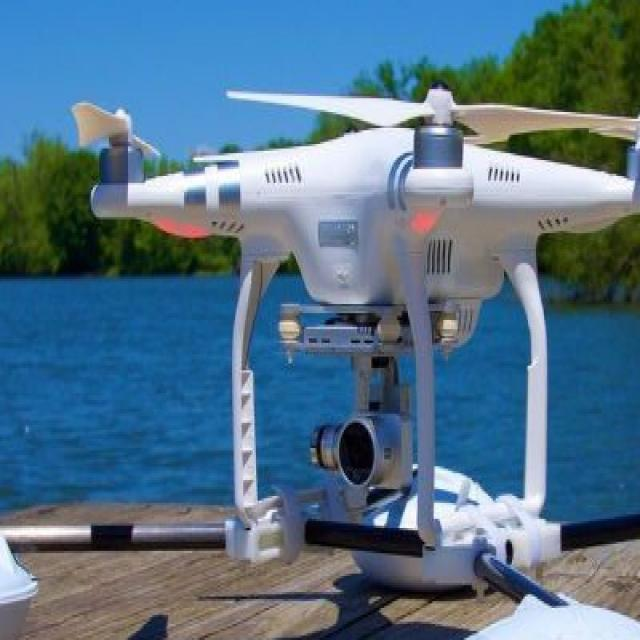drone: (49, 57, 640, 404)
